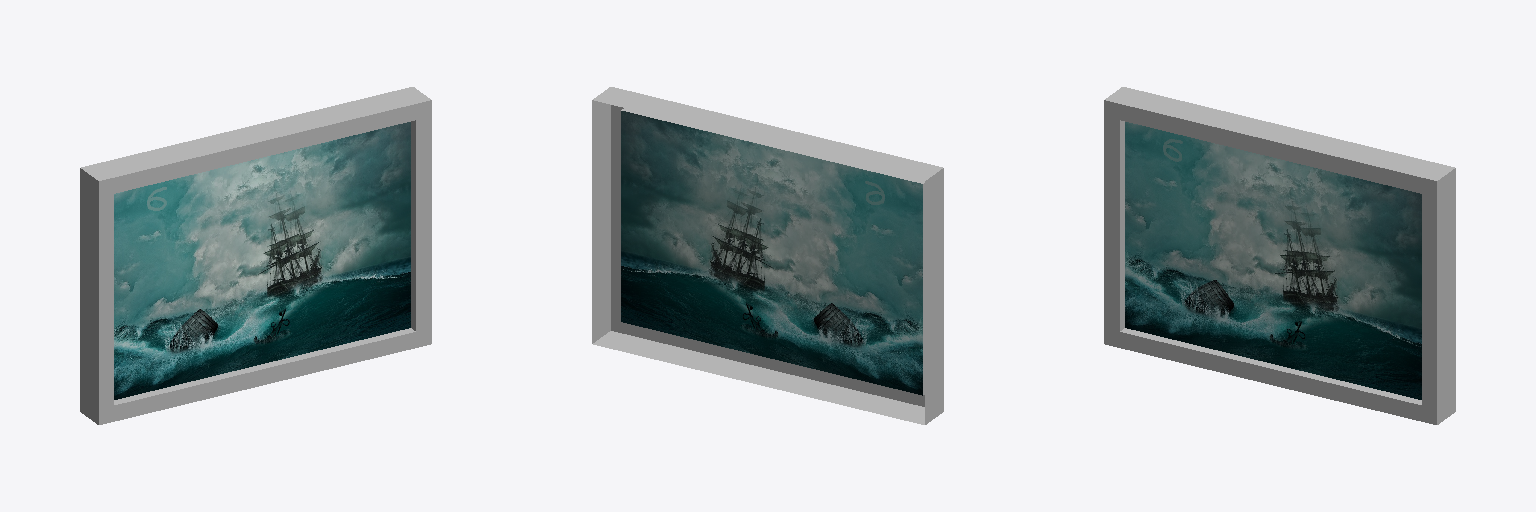
The picture shows the model from 3 angles: view 1: azimuth 30°, elevation 25°; view 2: azimuth 150°, elevation 25°; view 3: azimuth 330°, elevation 25°; orthographic projection.
Visible parts, largest first — view 1: paint_Cube.002, frame_Cube.001; view 2: paint_Cube.002, frame_Cube.001; view 3: paint_Cube.002, frame_Cube.001.
Boxes of the visible parts, <box> form: paint_Cube.002: <box>114,122,410,399</box>; frame_Cube.001: <box>80,87,431,424</box>; paint_Cube.002: <box>621,111,922,395</box>; frame_Cube.001: <box>592,87,943,424</box>; paint_Cube.002: <box>1125,122,1421,399</box>; frame_Cube.001: <box>1104,87,1455,424</box>.
Size of the model in its own units: 2.85 by 2 by 0.2766.
Materials: 2 (1 with a texture image).